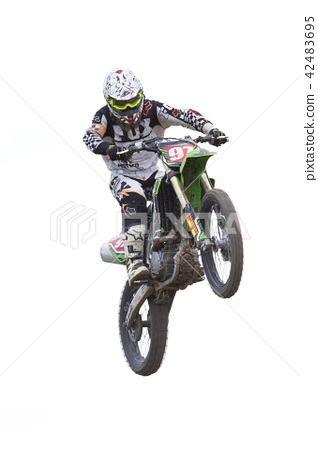helmet: (102, 60, 145, 122)
